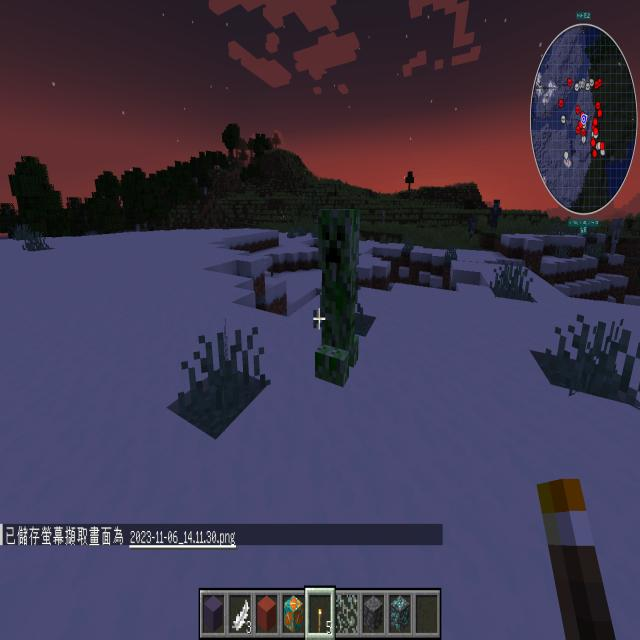Creeper: (312, 206, 362, 393)
Skeleton: (487, 193, 505, 241), (467, 212, 478, 246), (378, 210, 388, 228), (313, 219, 319, 237), (266, 192, 270, 205), (302, 193, 306, 204)
Spider: (364, 198, 370, 207)
Zombie: (312, 190, 316, 207)
